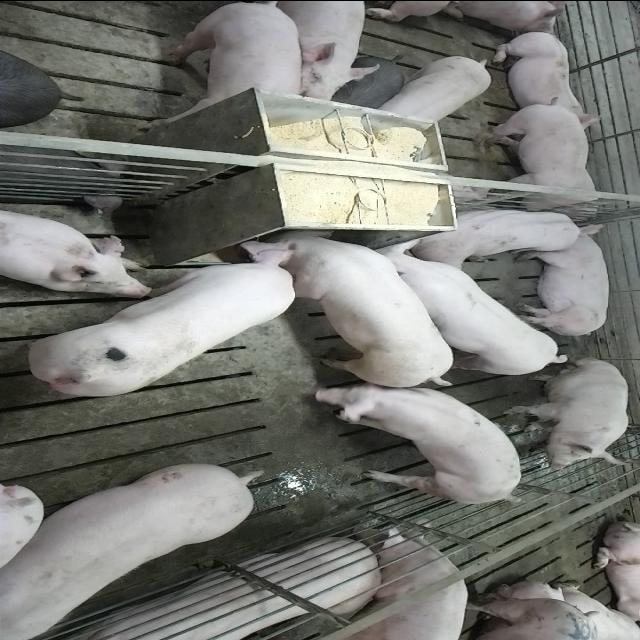Feeding: (21, 240, 302, 398), (260, 220, 463, 382)
Lateral_lying: (39, 538, 390, 640), (512, 222, 612, 338)
Sitting: (504, 357, 632, 469)
Standing: (6, 458, 266, 636), (354, 242, 570, 379), (314, 383, 527, 508), (152, 2, 304, 123), (468, 98, 600, 218), (339, 522, 473, 640), (262, 3, 376, 105), (378, 52, 491, 126)
Sternal_lying: (0, 207, 152, 295), (410, 203, 588, 265), (488, 29, 608, 119)
